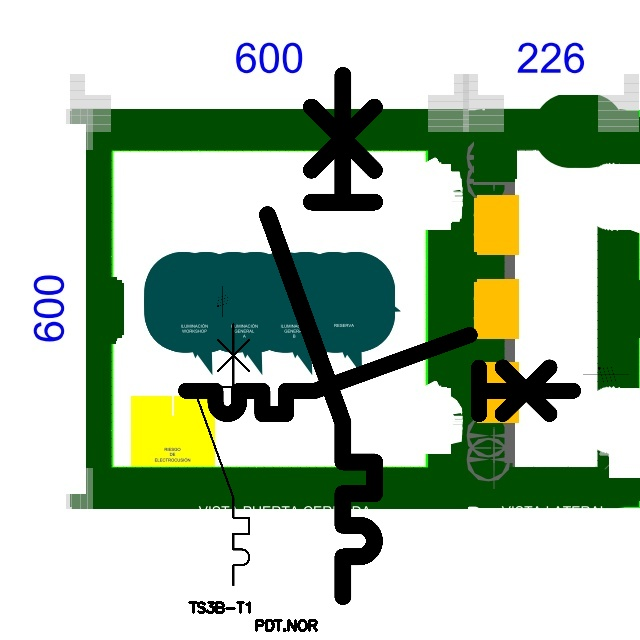interruptor_termomagnetico: (254, 62, 388, 610), (176, 325, 582, 424), (189, 317, 256, 592)
